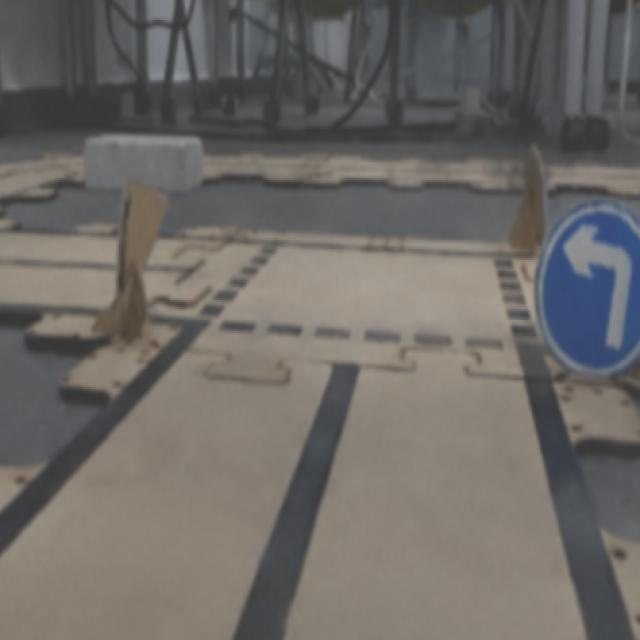LEFT: (535, 200, 639, 376)
